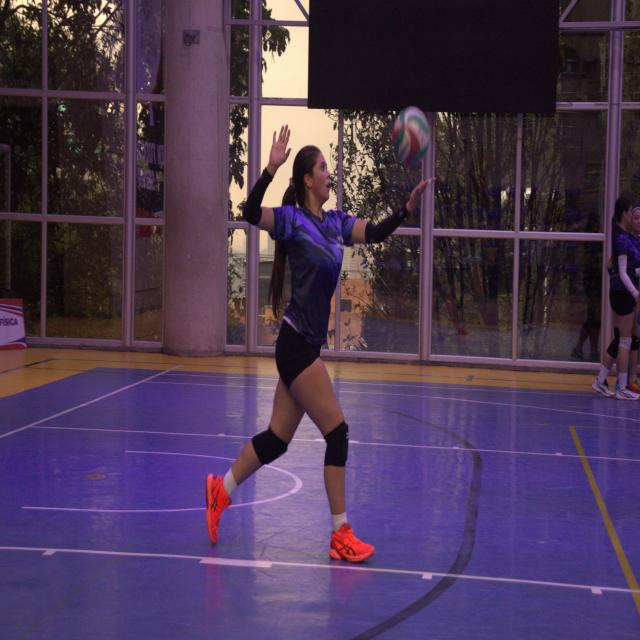volleyball: (391, 106, 431, 165)
